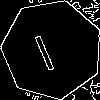I: (27, 24, 58, 73)
